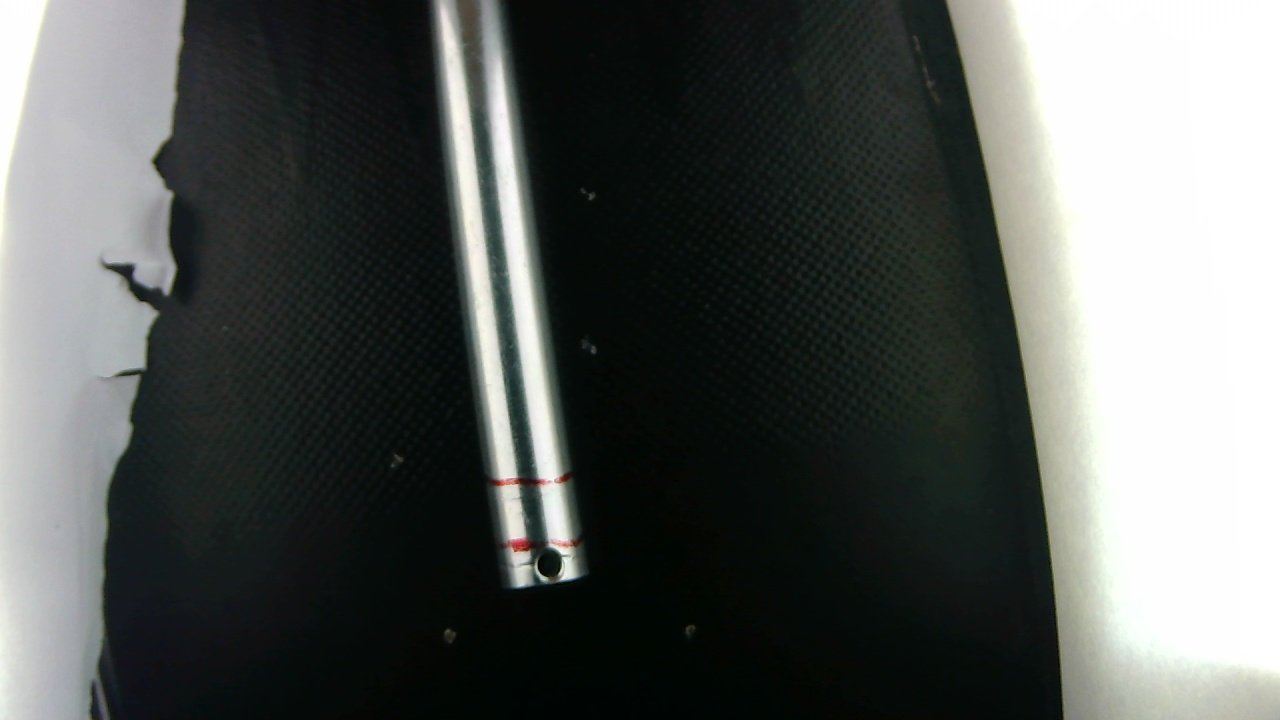odlinemark_pin: (488, 494, 586, 523)
